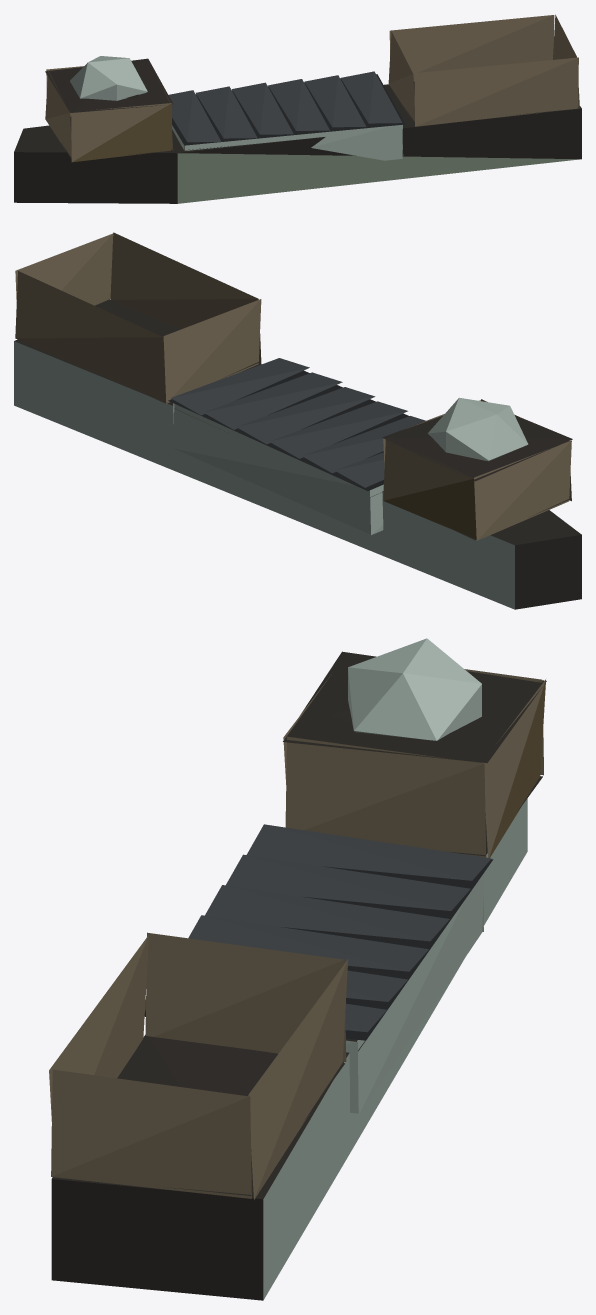
The model's file is odessa.lod2.glb.
The picture shows the model from 3 angles, top to bottom: view 1: azimuth 30°, elevation 25°; view 2: azimuth 150°, elevation 25°; view 3: azimuth 270°, elevation 25°; orthographic projection. The views are drawn at different scales.
Visible parts, largest first — view 1: lod2; view 2: lod2; view 3: lod2.
Boxes of the visible parts, bbox=[...] form: lod2: bbox=[14, 14, 581, 203]; lod2: bbox=[14, 232, 581, 609]; lod2: bbox=[49, 638, 546, 1300].
Bounding box in the file's own units: 30.55 × 7.43 × 13.34.
